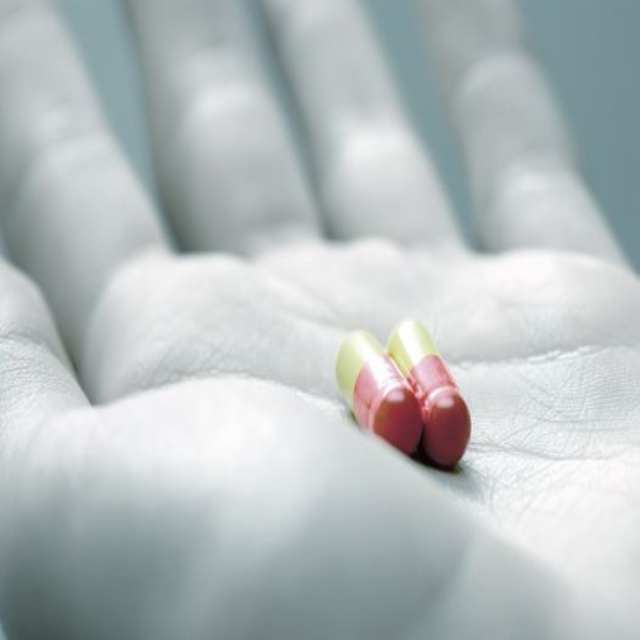pill: (322, 175, 391, 253), (275, 181, 343, 243)
